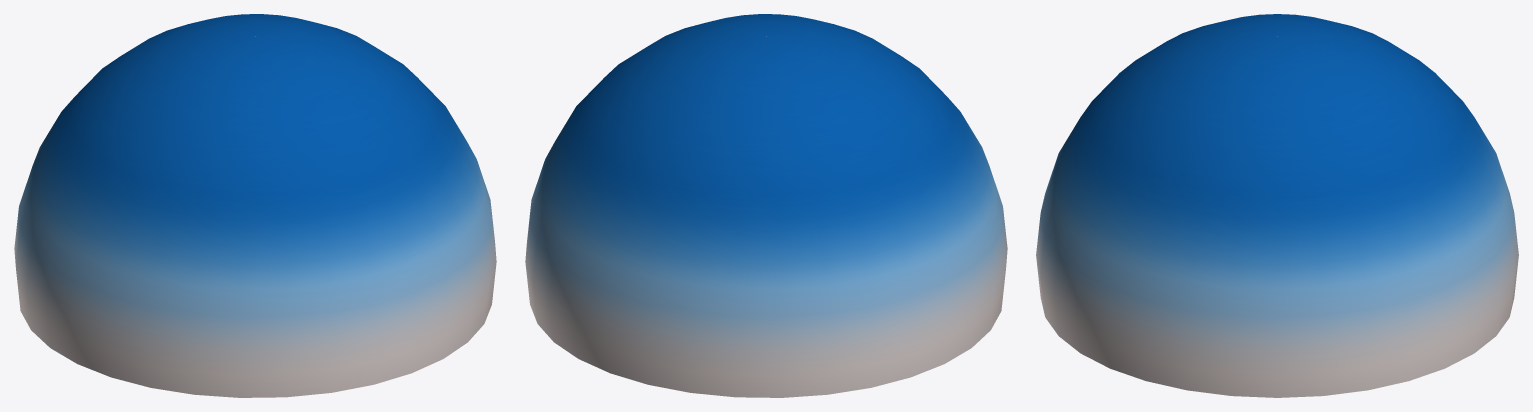
The model's file is environment1_2.gltf.
3 renders of one model, left to right at view 1: azimuth 30°, elevation 25°; view 2: azimuth 150°, elevation 25°; view 3: azimuth 270°, elevation 25°, orthographic.
Visible parts, largest first — view 1: Skydome; view 2: Skydome; view 3: Skydome.
Boxes of the visible parts, x1,y1,x2,y2 form: Skydome: (14,14,496,397); Skydome: (525,14,1007,397); Skydome: (1036,14,1518,397).
Size of the model in its own units: 1000 by 598 by 1000.
6 materials, 1 textured.
